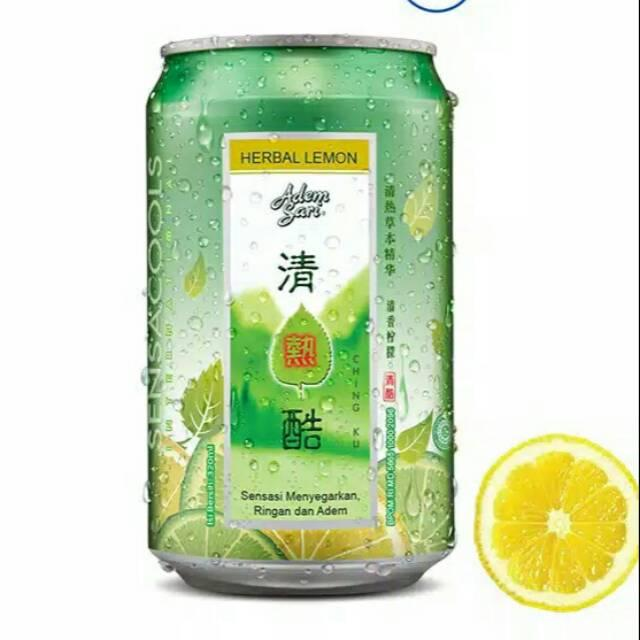ademsarikaleng: (143, 32, 459, 597)
